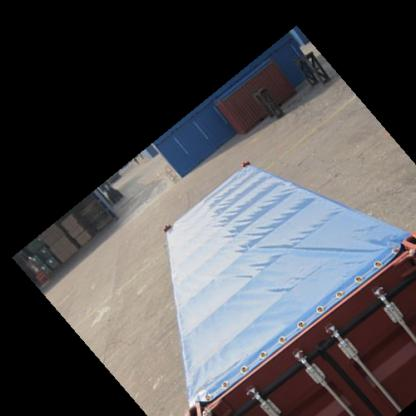Damage: (301, 329, 334, 361), (394, 233, 415, 281)
